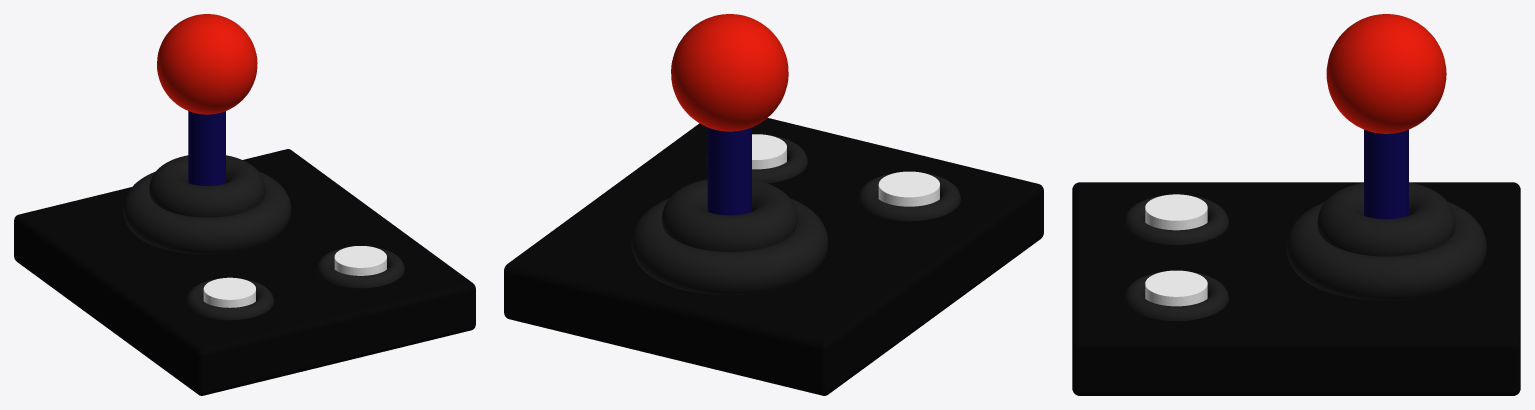
Rendered from Game-controller.glb.
The picture shows the model from 3 angles, left to right: view 1: azimuth 30°, elevation 25°; view 2: azimuth 150°, elevation 25°; view 3: azimuth 270°, elevation 25°; orthographic projection. The views are drawn at different scales.
Parts seen in each view (by area): view 1: Base, Sphere, Torus.002, Torus.001, Cylinder, Torus.003, Torus.004, Cylinder.001, Cylinder.002; view 2: Base, Sphere, Torus.002, Torus.001, Cylinder, Torus.004, Cylinder.002, Torus.003, Cylinder.001; view 3: Base, Sphere, Torus.002, Torus.001, Cylinder, Torus.004, Torus.003, Cylinder.002, Cylinder.001.
Part boxes in pixels (bbox=[...]): Base: bbox=[14, 149, 475, 395]; Sphere: bbox=[157, 14, 257, 114]; Torus.002: bbox=[123, 171, 291, 254]; Torus.001: bbox=[149, 155, 265, 217]; Cylinder: bbox=[188, 111, 225, 185]; Torus.003: bbox=[316, 246, 404, 288]; Torus.004: bbox=[186, 278, 273, 320]; Cylinder.001: bbox=[334, 246, 386, 275]; Cylinder.002: bbox=[203, 277, 255, 307]; Base: bbox=[504, 118, 1043, 395]; Sphere: bbox=[671, 14, 788, 131]; Torus.002: bbox=[631, 198, 828, 295]; Torus.001: bbox=[662, 179, 797, 251]; Cylinder: bbox=[707, 127, 751, 215]; Torus.004: bbox=[858, 172, 960, 221]; Cylinder.002: bbox=[878, 171, 939, 206]; Torus.003: bbox=[705, 135, 807, 183]; Cylinder.001: bbox=[752, 134, 786, 169]; Base: bbox=[1072, 182, 1520, 395]; Sphere: bbox=[1326, 14, 1446, 133]; Torus.002: bbox=[1286, 202, 1486, 300]; Torus.001: bbox=[1317, 182, 1455, 256]; Cylinder: bbox=[1364, 129, 1408, 219]; Torus.004: bbox=[1124, 195, 1228, 244]; Torus.003: bbox=[1124, 271, 1228, 320]; Cylinder.002: bbox=[1145, 194, 1207, 230]; Cylinder.001: bbox=[1145, 270, 1207, 306].
Size of what is drawn, in the model's own units: 1.28 by 1.09 by 1.49.
